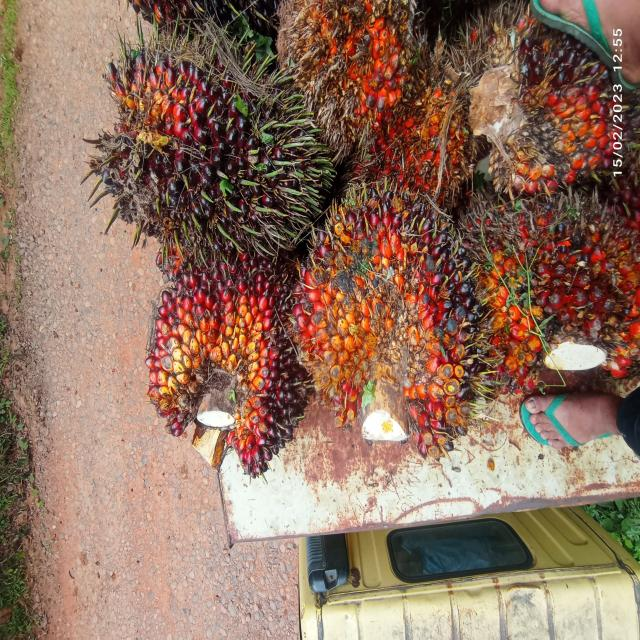fraksi 00: (89, 34, 328, 310)
fraksi 1: (284, 178, 491, 481), (116, 239, 320, 494), (480, 12, 630, 176)
fraksi 3: (449, 171, 640, 400)
fraksi 4: (282, 0, 430, 156), (370, 45, 480, 206)
